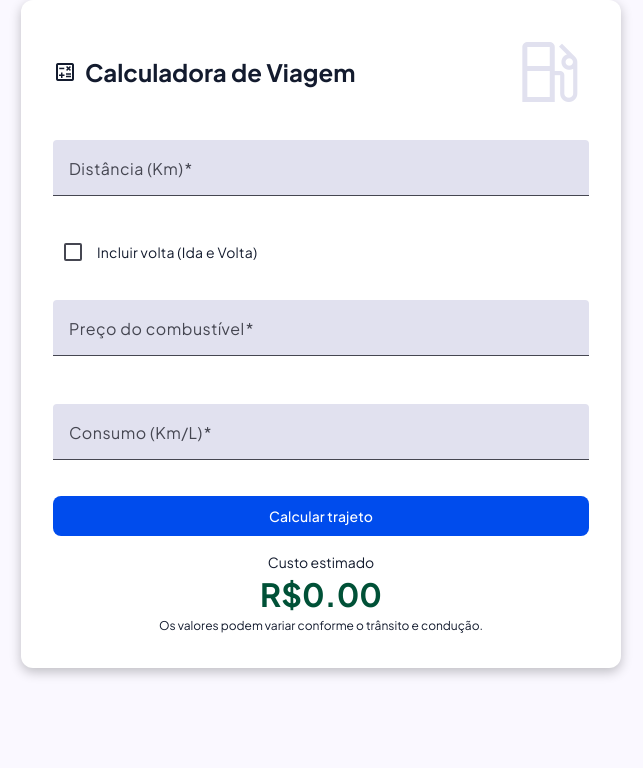
Scenario: HomeComponent › should reflect calculation result in the view
The width and height of the screenshot is (643, 768).
Type "6.5" into the number field with test id "home-gasoline-price" at (321, 336), box [69, 324, 573, 348]
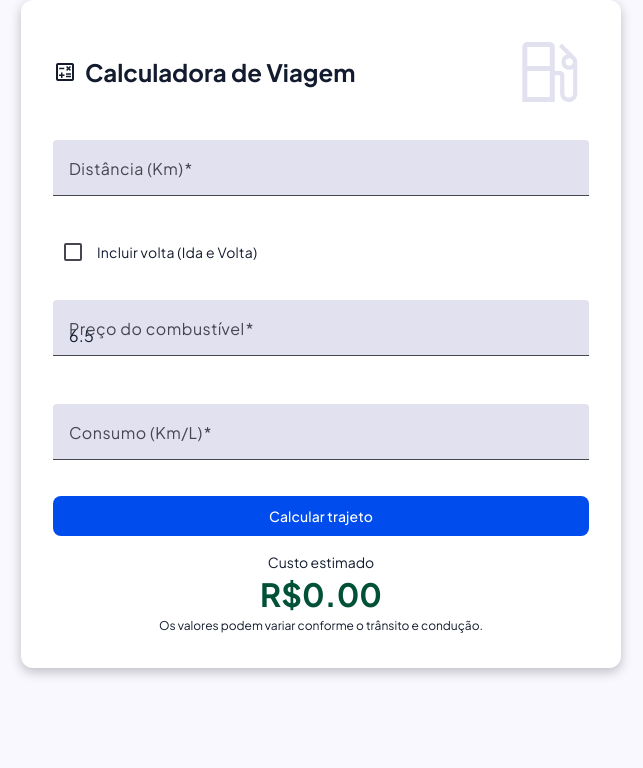
Type "10" into the number field with test id "home-distance-per-liter" at (321, 440), box [69, 428, 573, 452]
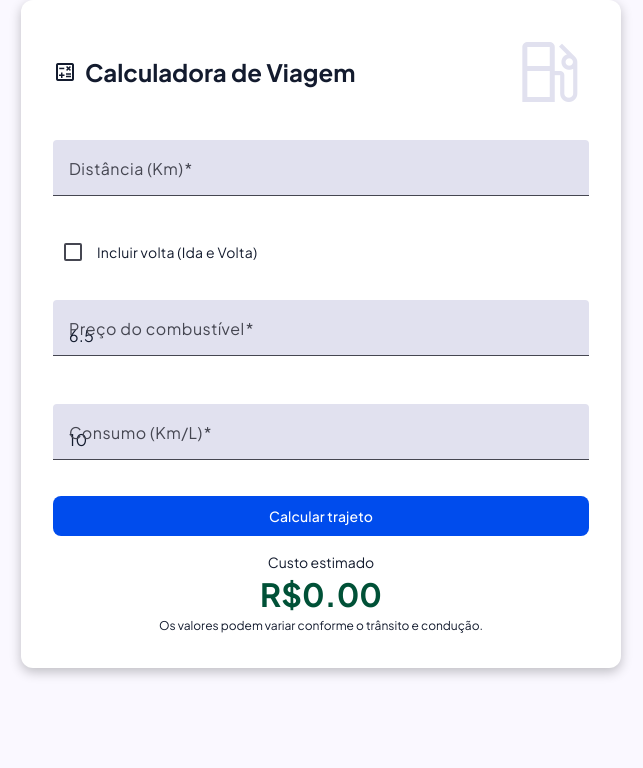
Type "100" into the number field labelled "Distância (Km)" at (321, 176), box [69, 164, 573, 188]
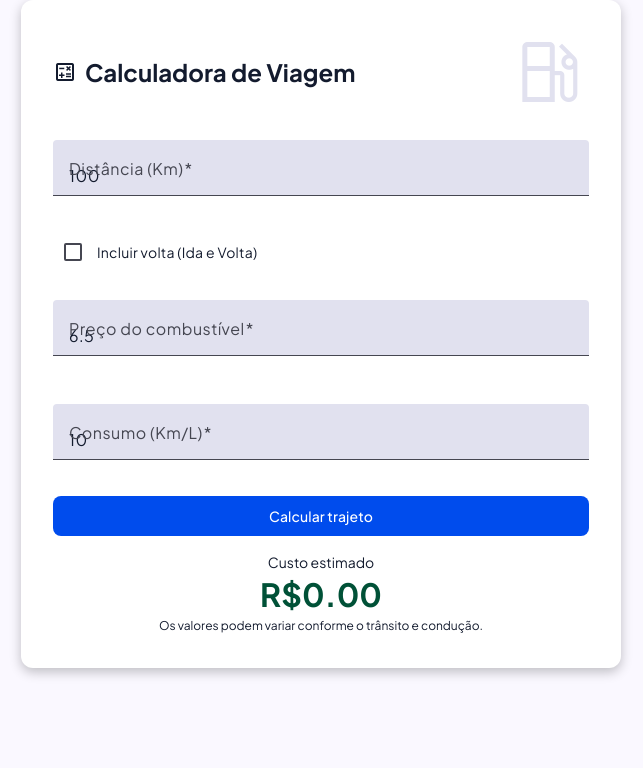
Submit the form, box [53, 128, 589, 536]
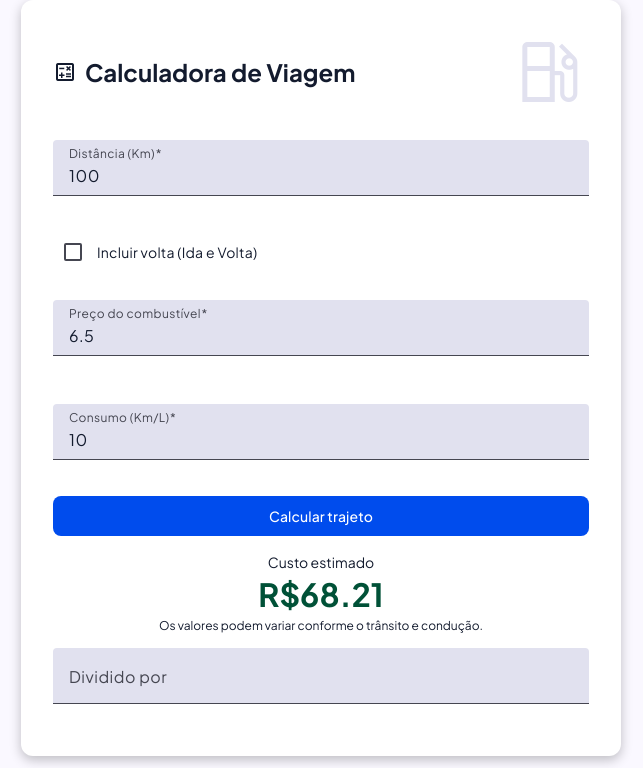
Result: the text with test id "home-result" reads "R$68.21" at [258, 574, 384, 614]
